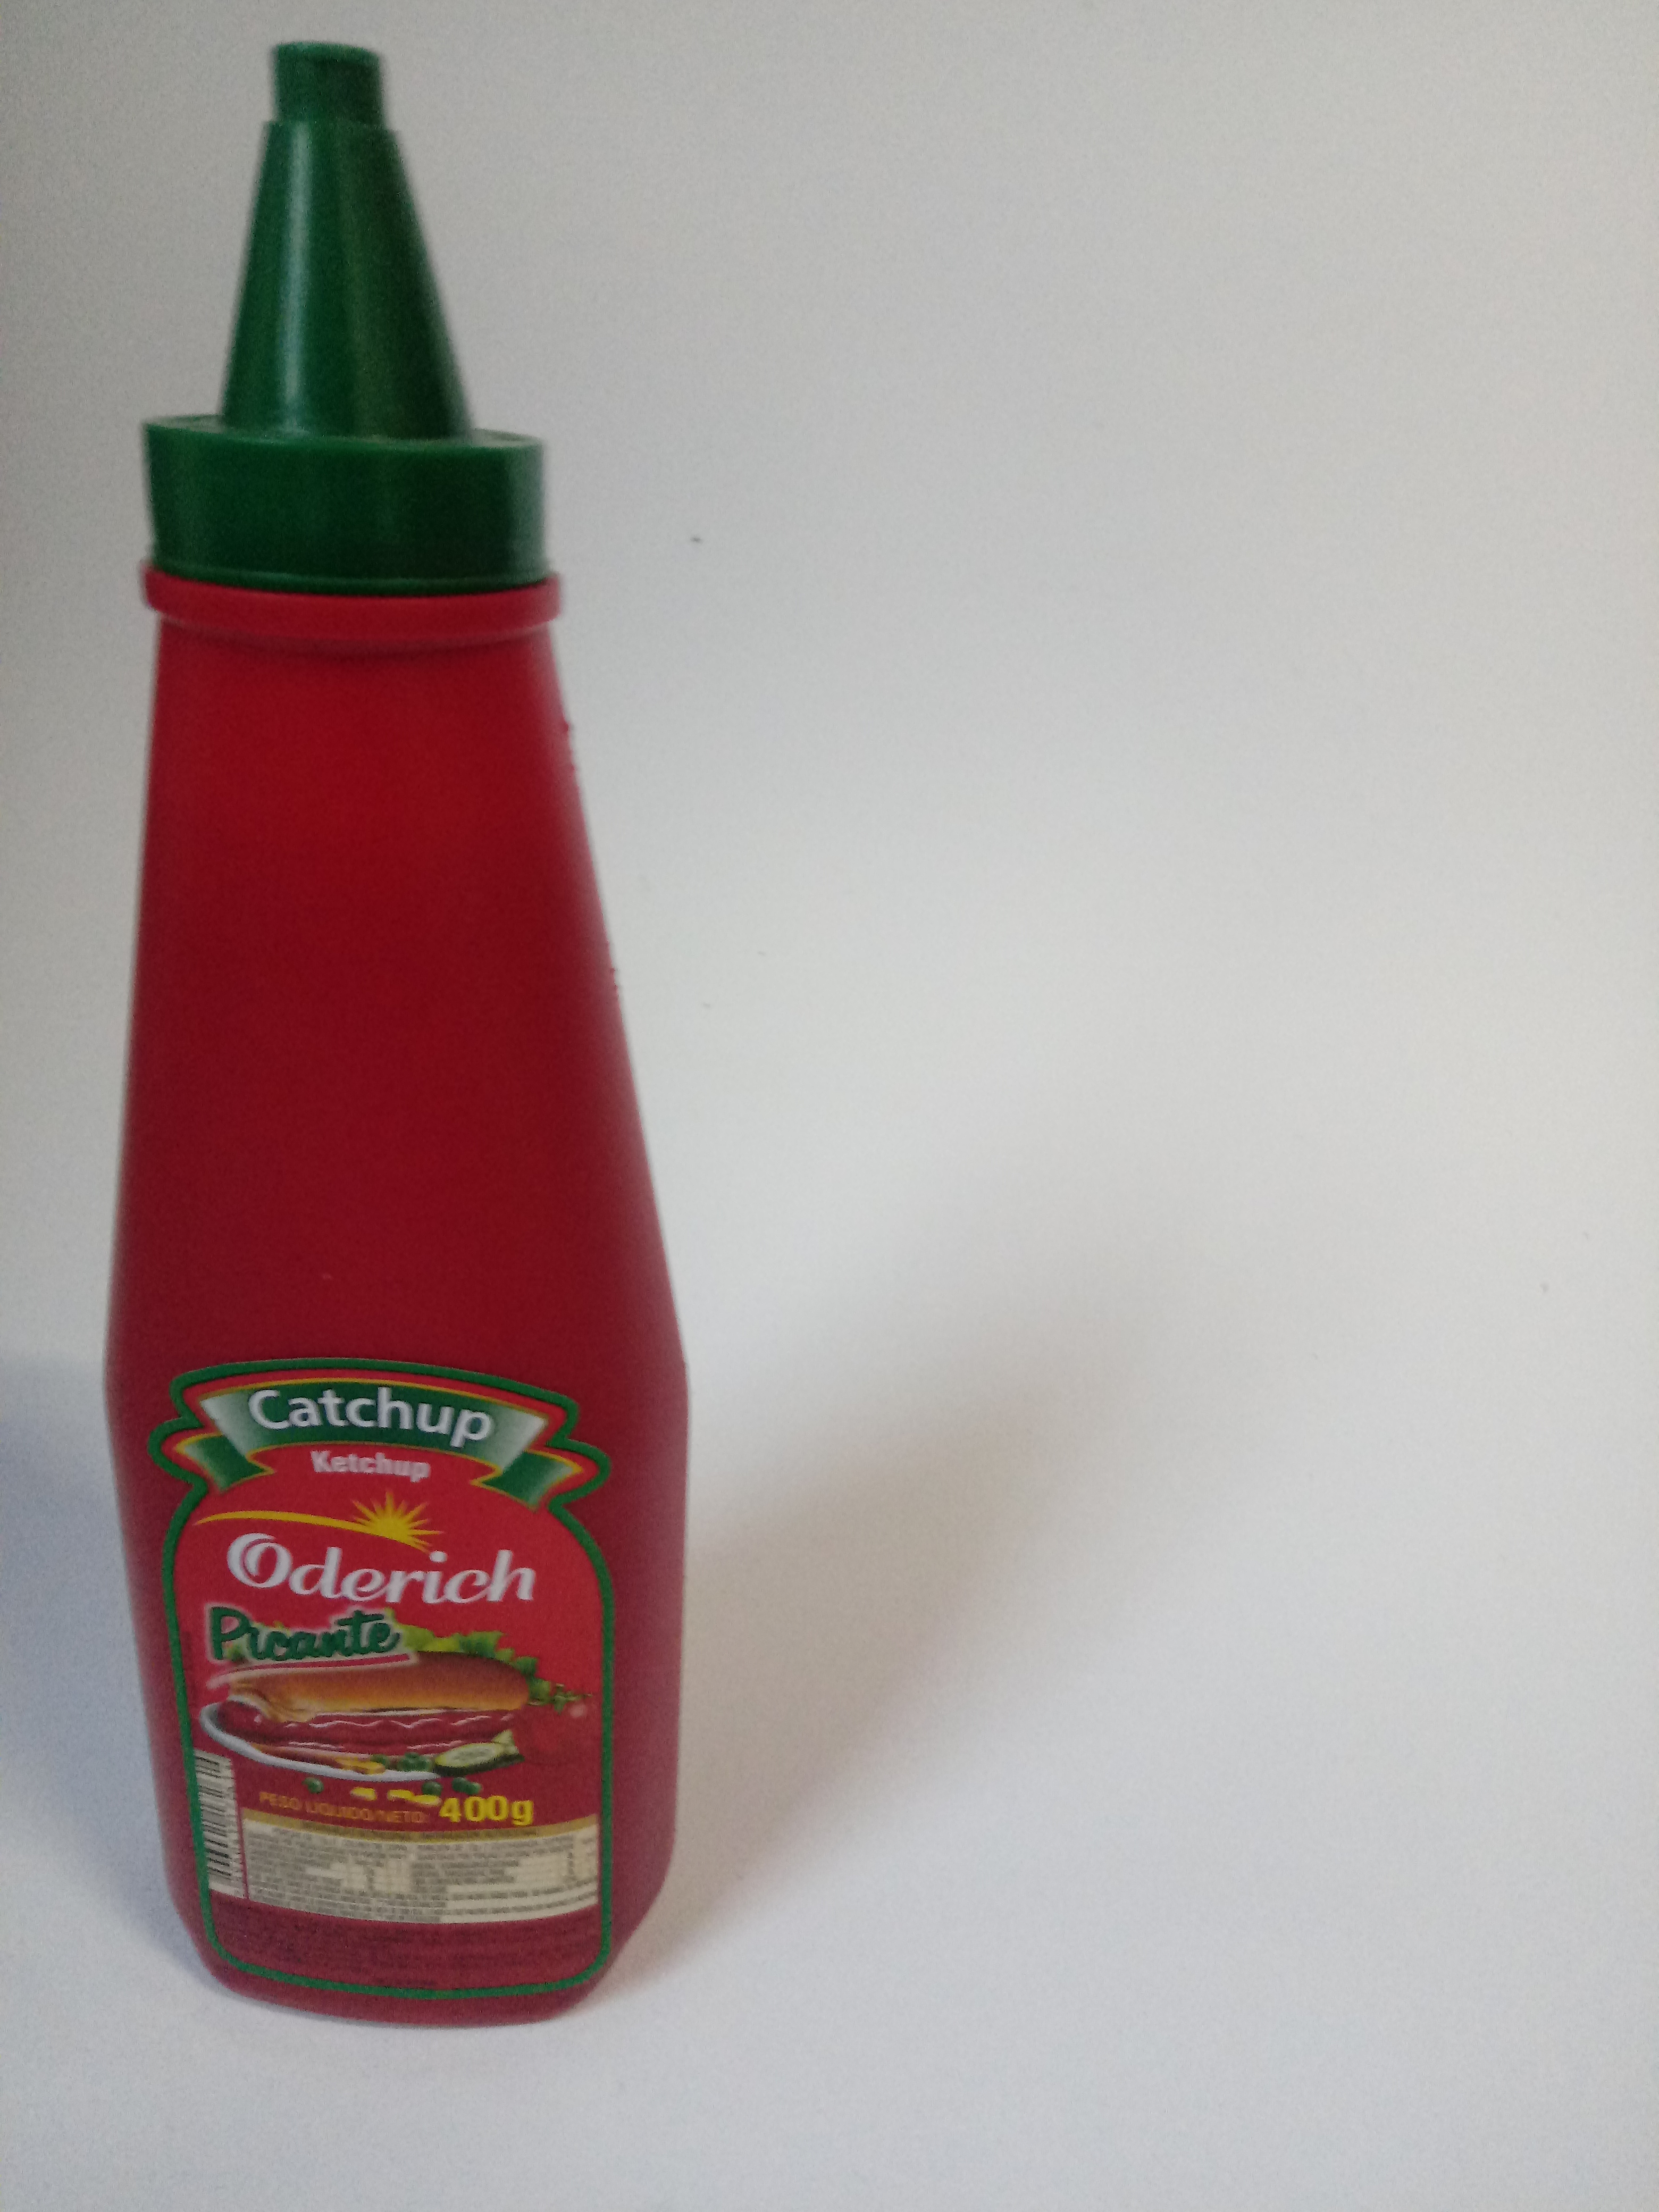catchup-oderich: (77, 30, 708, 2050)
